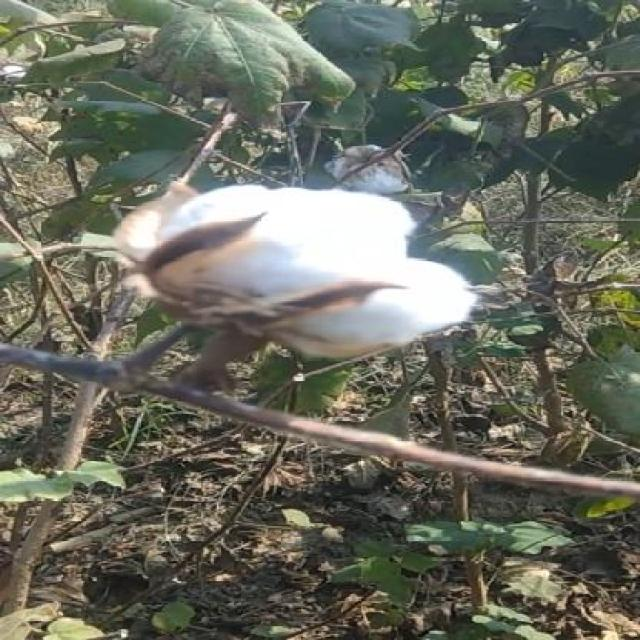cotton_ready: (126, 169, 483, 425)
